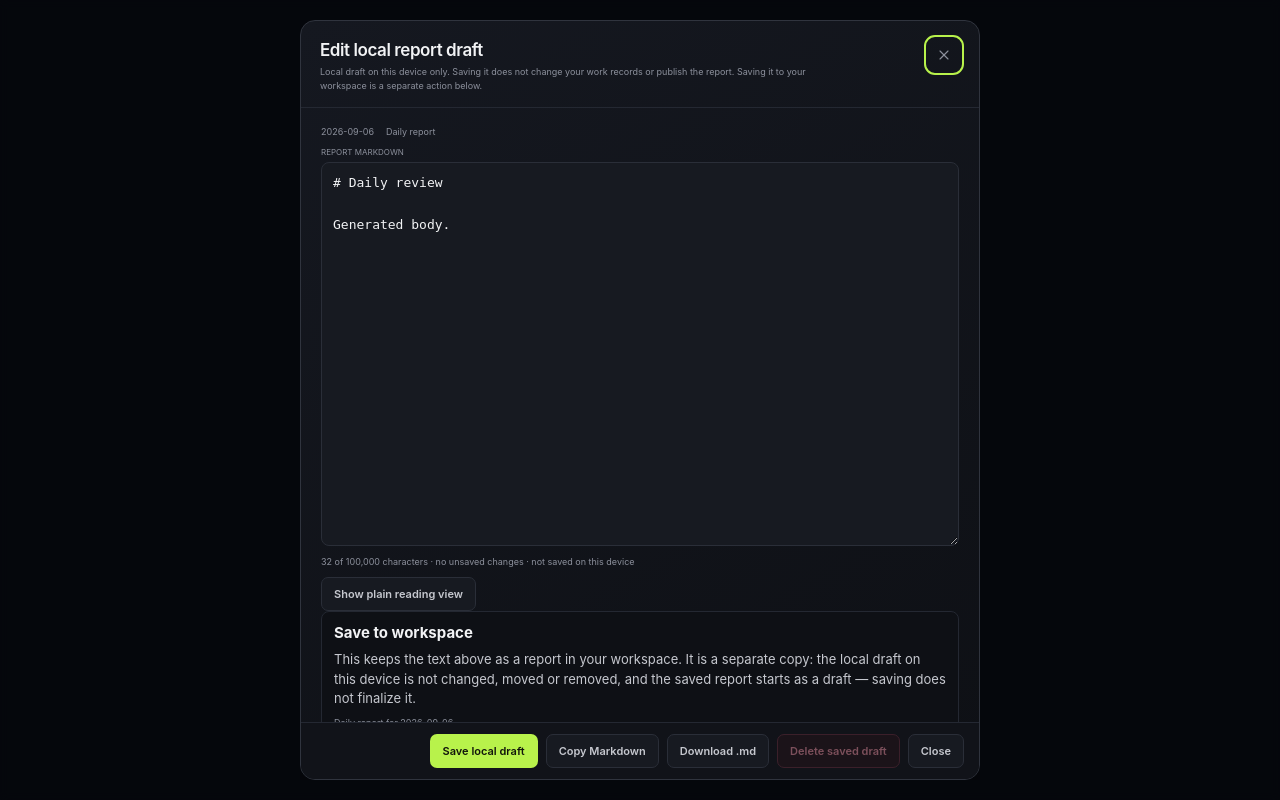
Test case: opening the editor › the first save is revision 1 and the next one advances it
Type "one" into the text box labelled "Report markdown" at (640, 354), box [321,162,959,546]
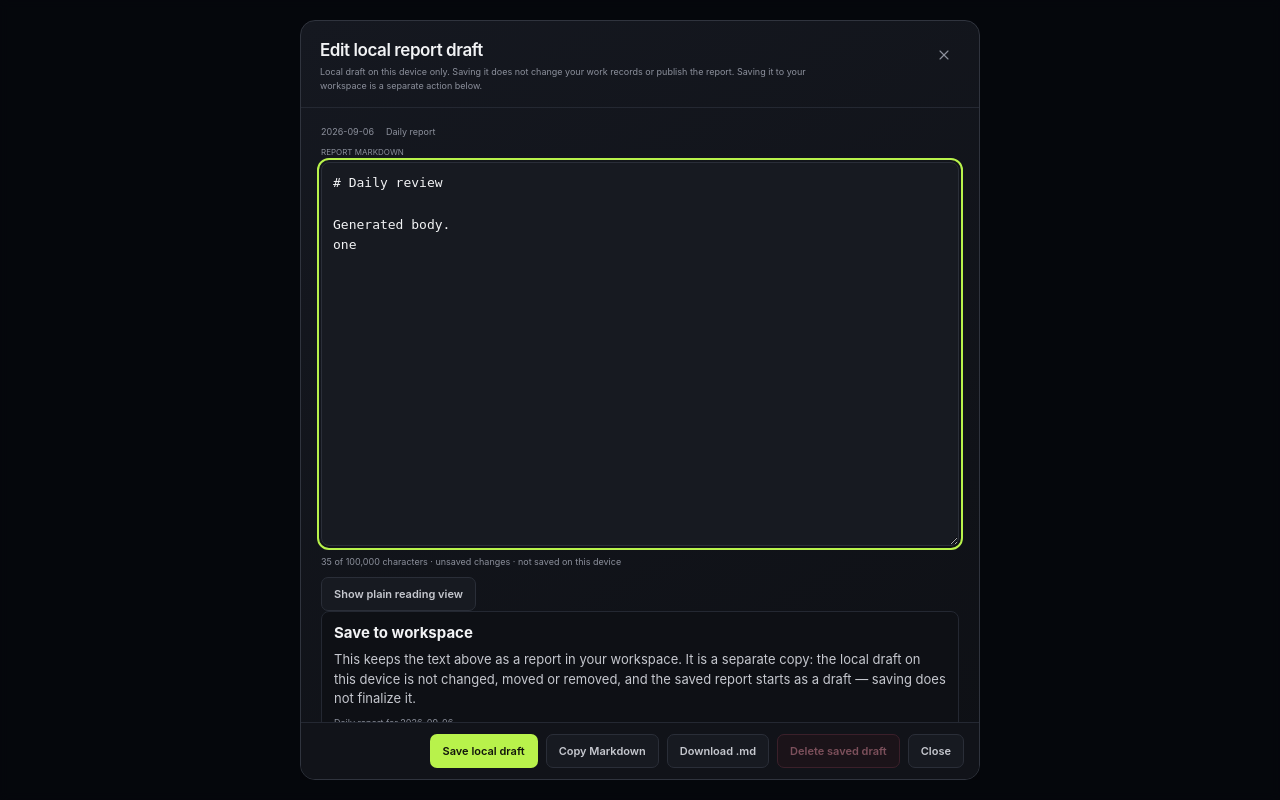
Click the button "Save local draft" at (484, 751), box [430,734,538,768]
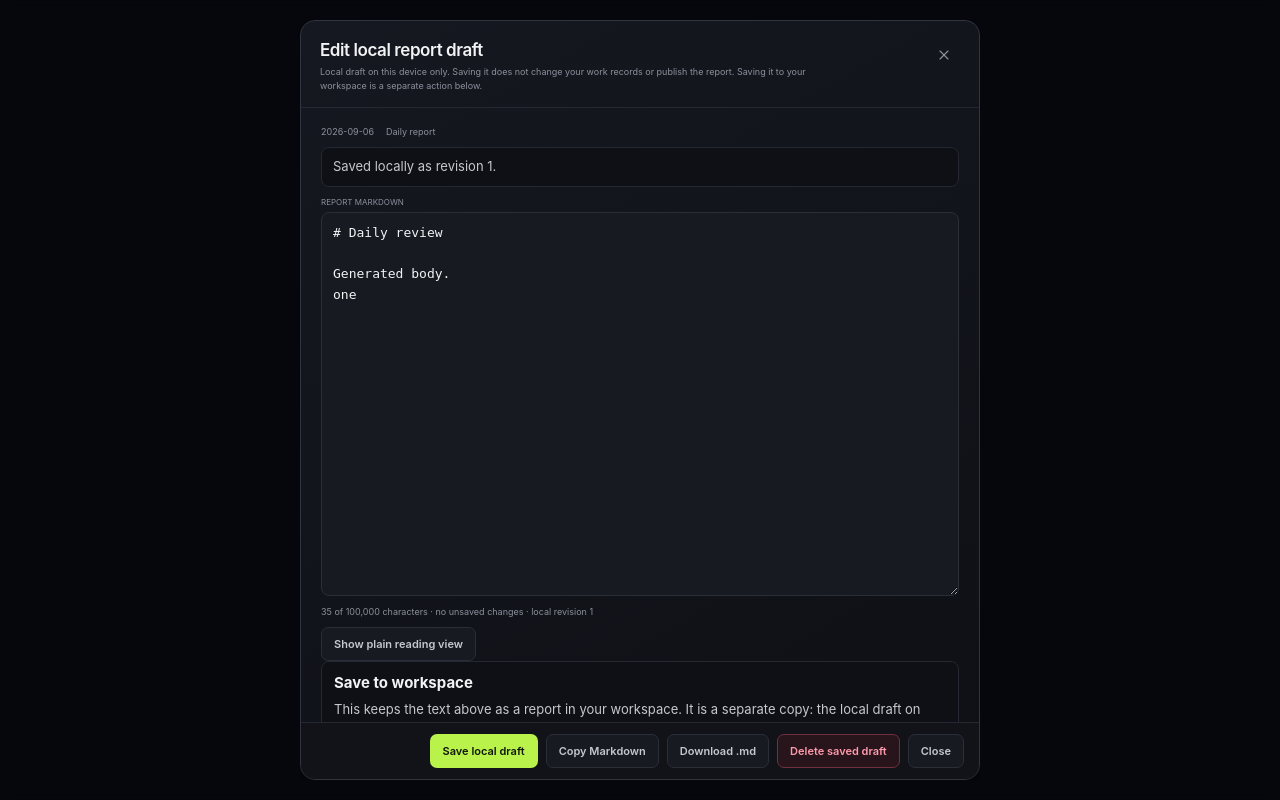
Result: the text "Saved locally as revision 1." is shown at [321,147,959,187]
Type " two" into the text box labelled "Report markdown" at (640, 404), box [321,212,959,596]
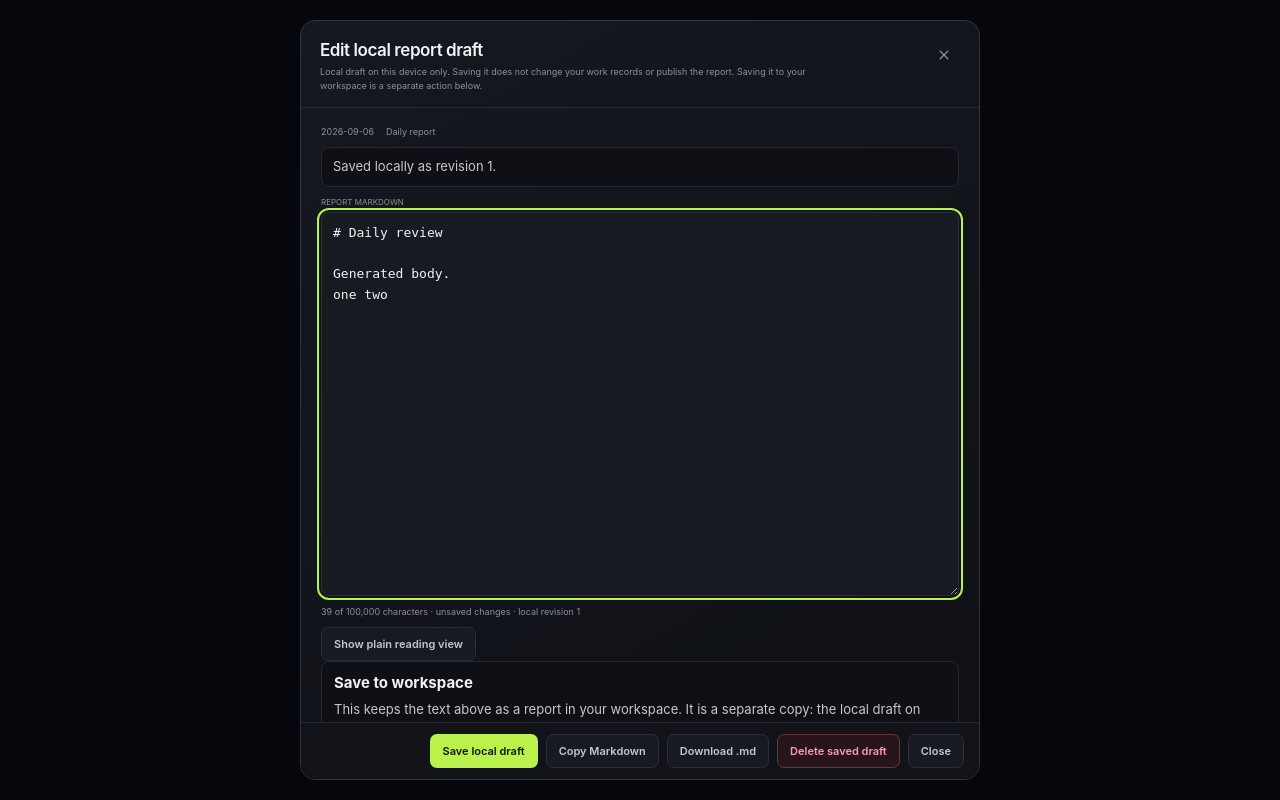
Click the button "Save local draft" at (484, 751), box [430,734,538,768]
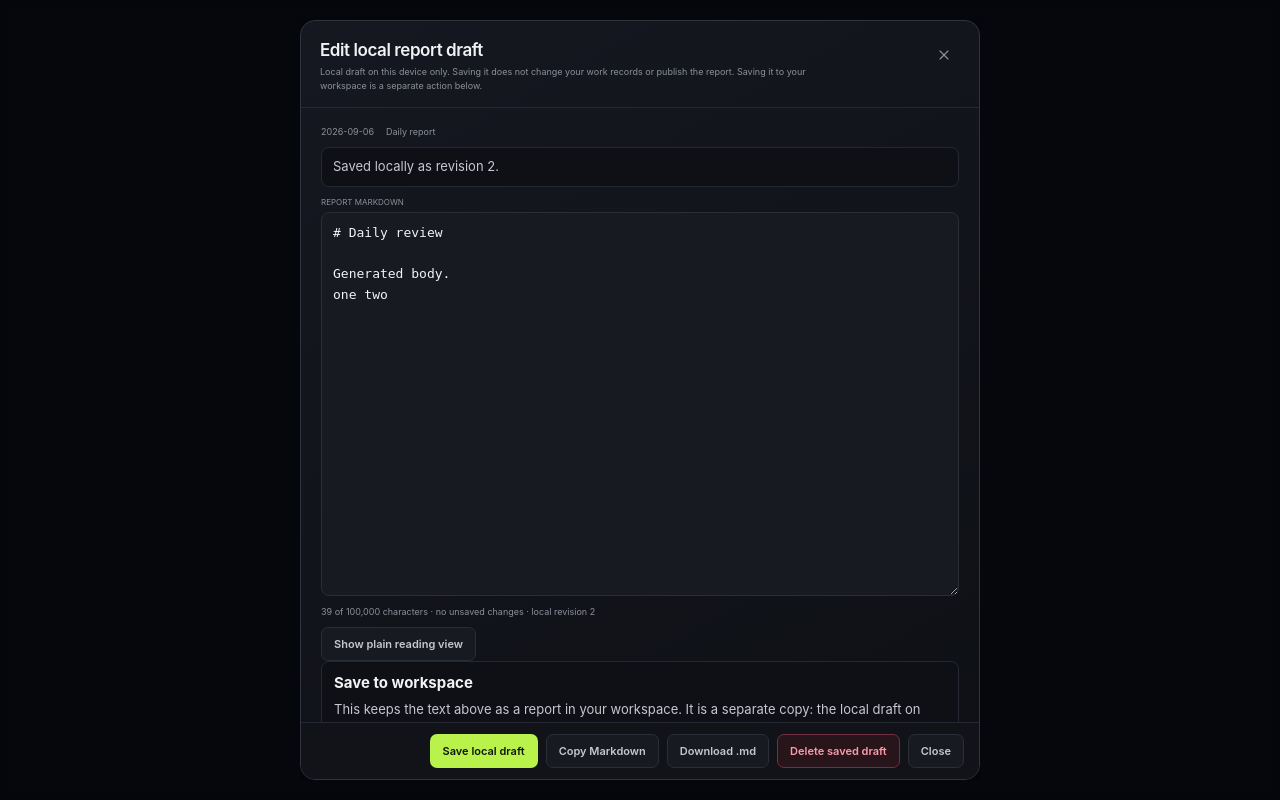
Result: the text "Saved locally as revision 2." is shown at [321,147,959,187]
